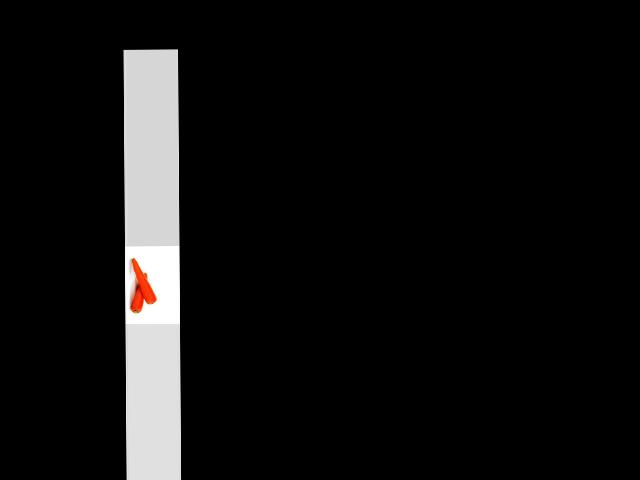carrot: (129, 269, 149, 315)
